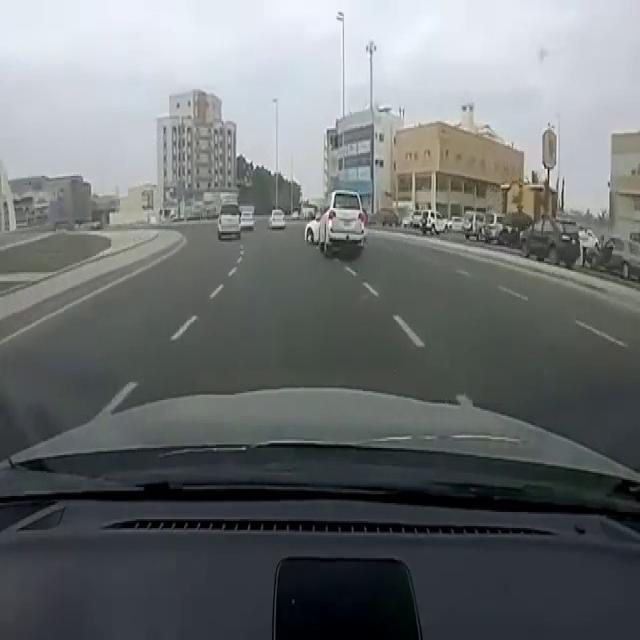moderate: (300, 185, 369, 263)
